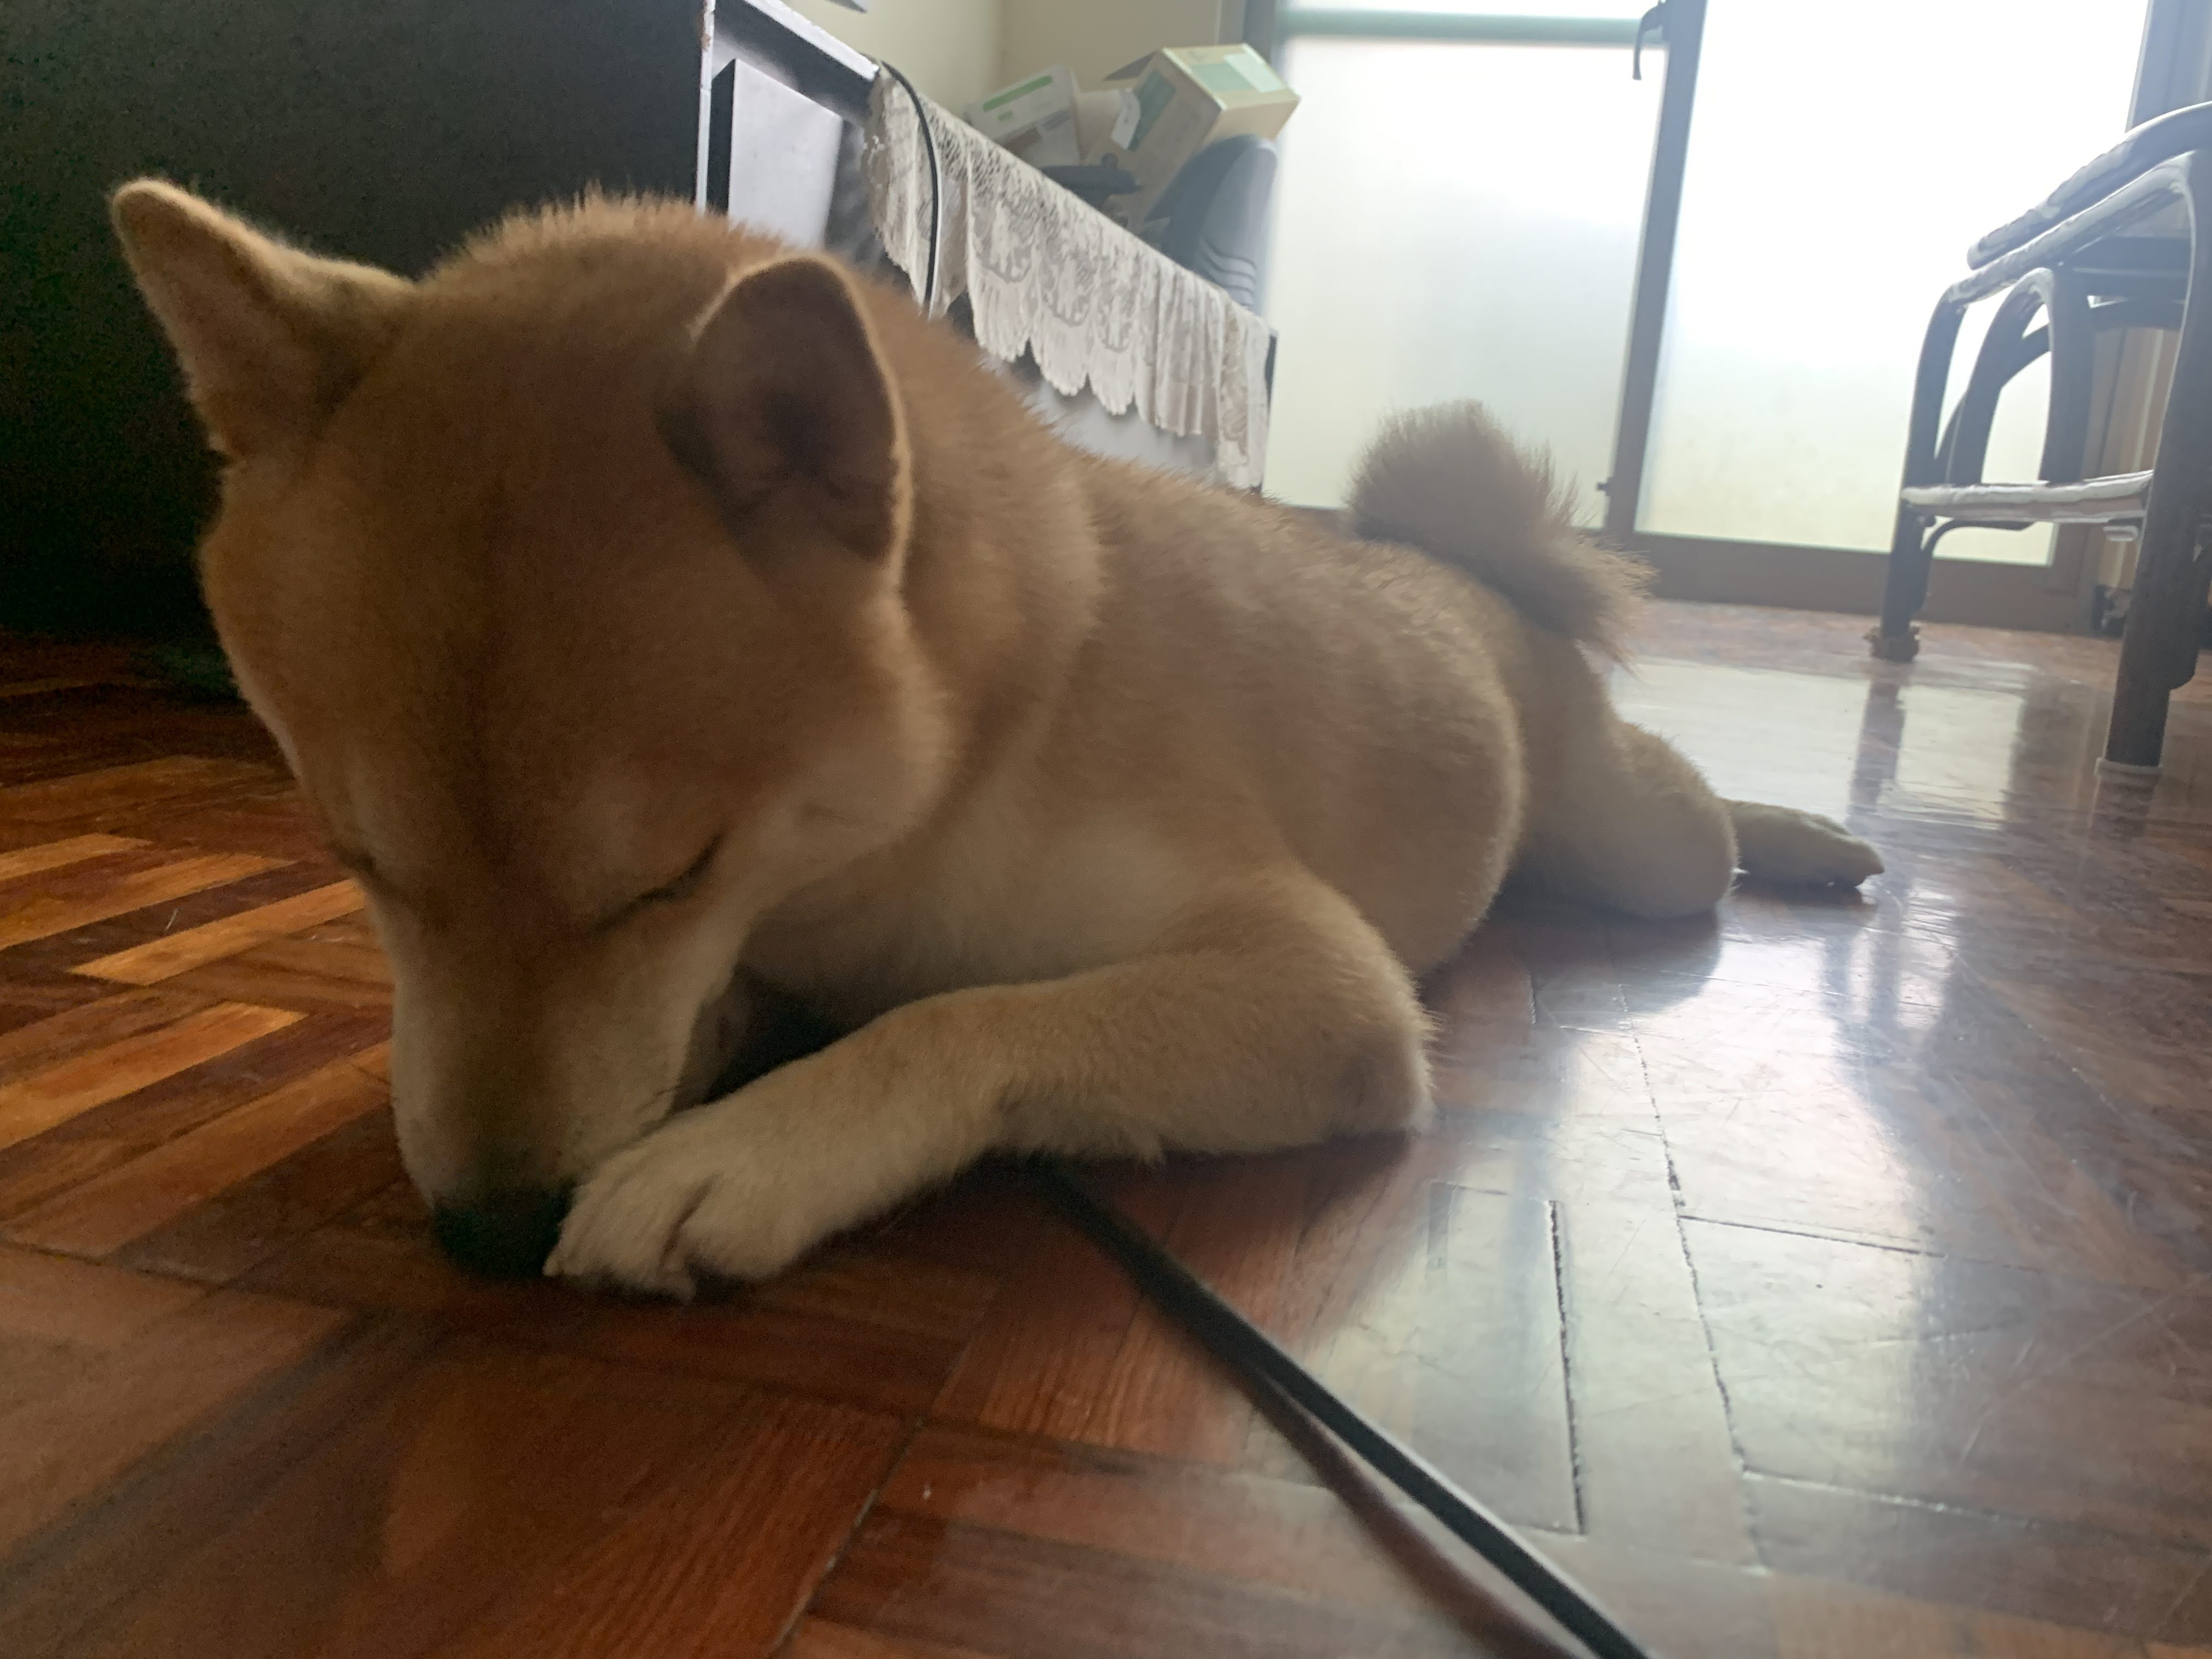Get down: (98, 153, 2001, 1291)
